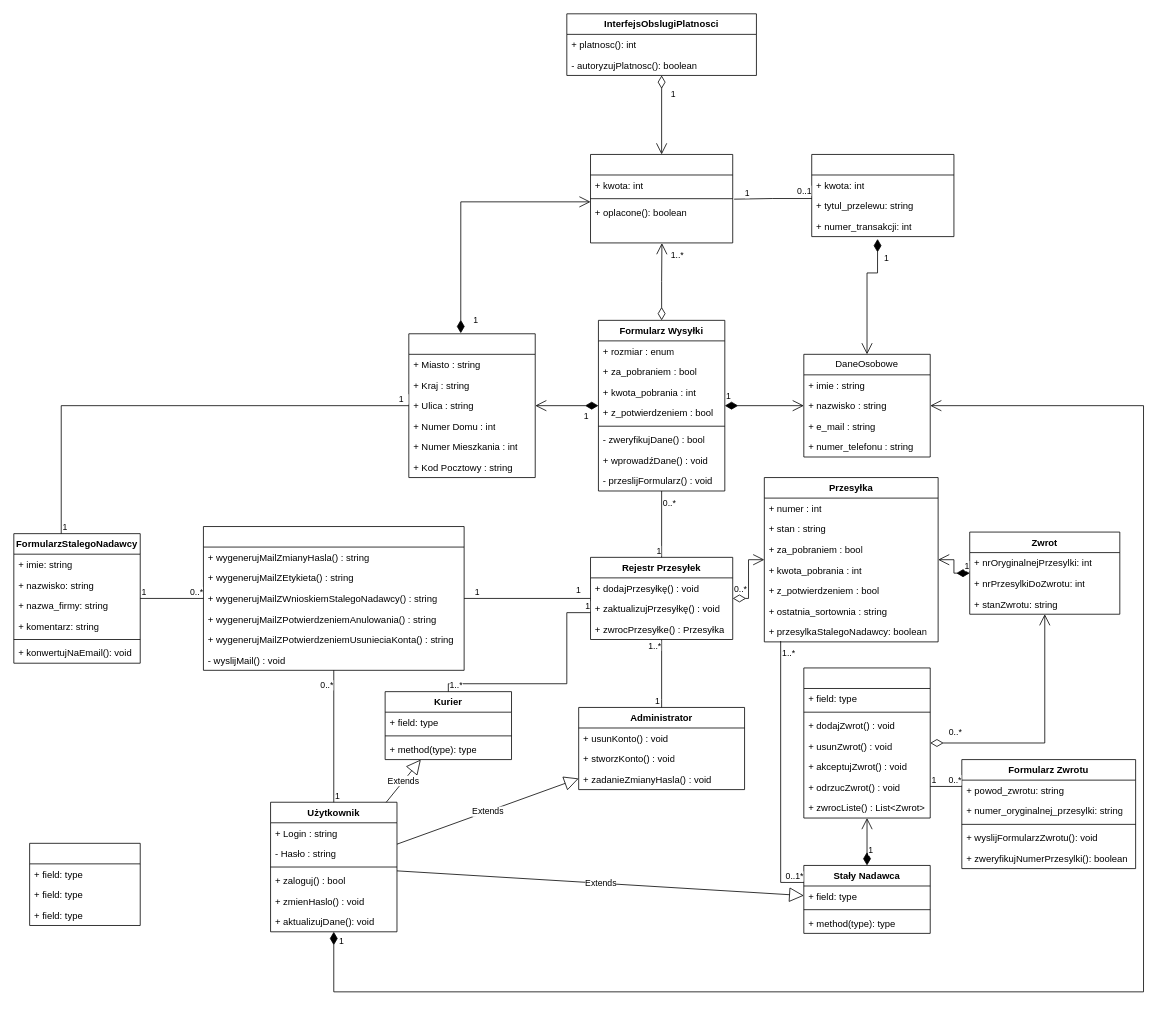
Some shapes in this 1171 by 1019 pixel diagram are drawn without their labels. The shapes that lost their labels are listed below. From the top down, each one's box as (x1, y1, x2, y2) in pixels, then its label:
(590, 154, 733, 243): Platnosc
(811, 154, 954, 237): PotwierdzeniePlatnosci
(408, 333, 535, 478): Adres
(203, 526, 464, 670): InterfejsPoczty
(803, 667, 930, 818): ListaZwrotow
(29, 843, 140, 925): Skaner
